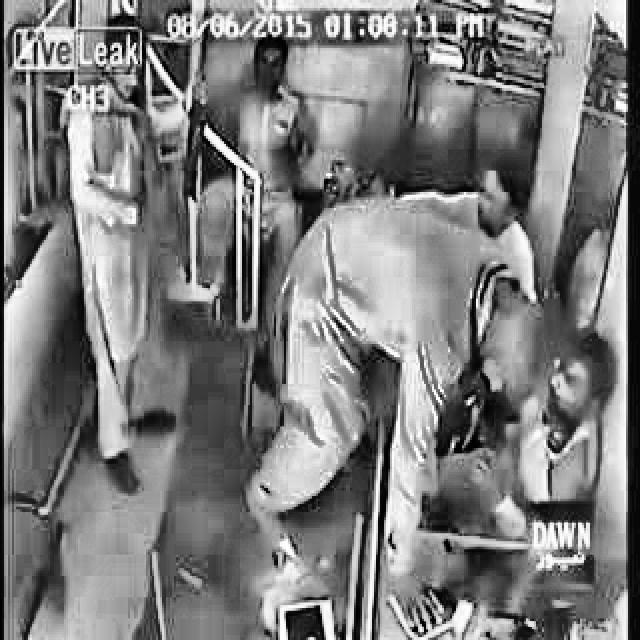robbery: (241, 188, 621, 561), (67, 14, 213, 492)
